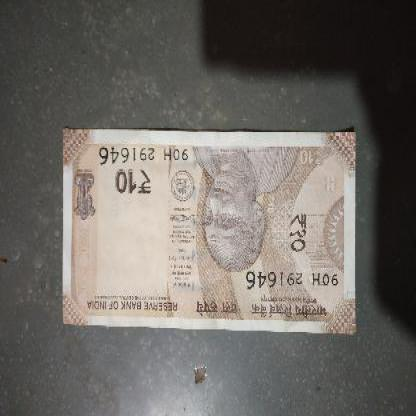New10Front: (63, 124, 356, 331)
